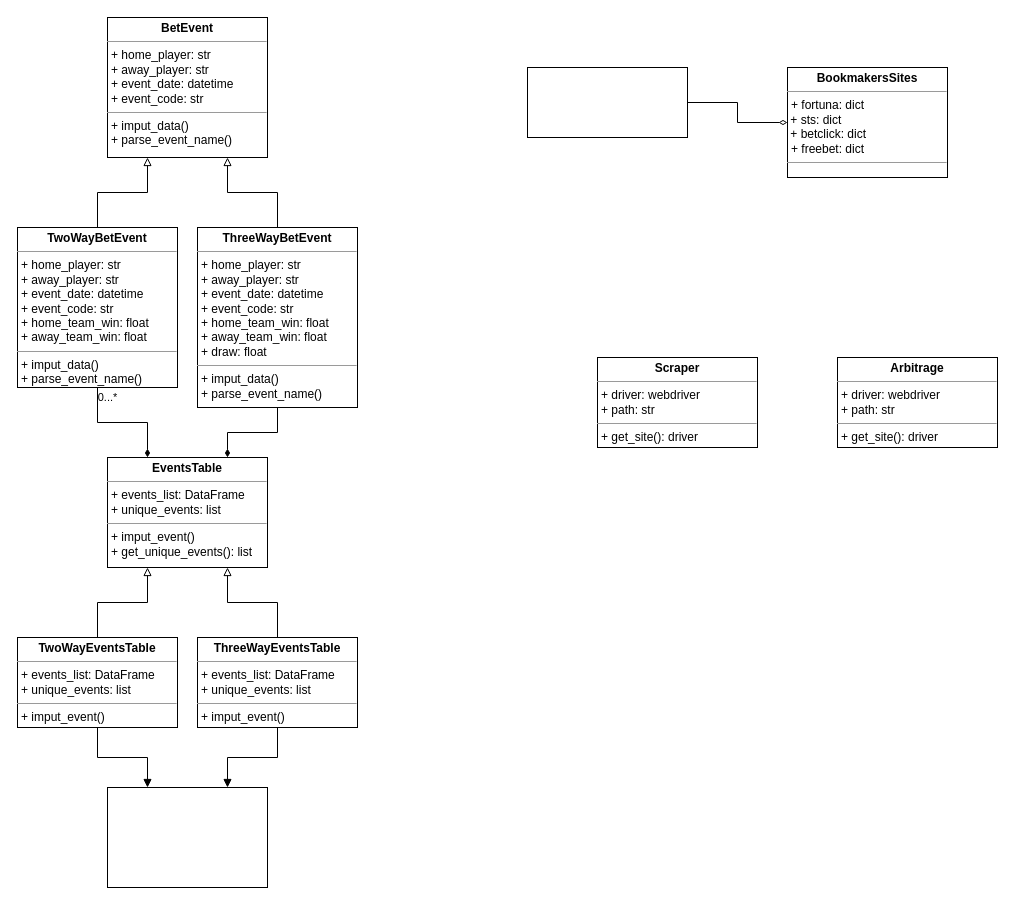
The diagram is 1015 pixels wide and 905 high, and some of its shapes have lost their labels. The shapes that lost their labels are listed below. From the top down, each one's centre as x and y in pixels, then its label:
the point at 607,102: EventsTypes + events: dict
the point at 187,837: Event + event_code: str + event_data: Dataframe + parse_event_data
